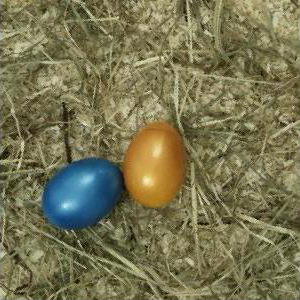egg: (42, 158, 124, 230), (123, 123, 189, 210)
